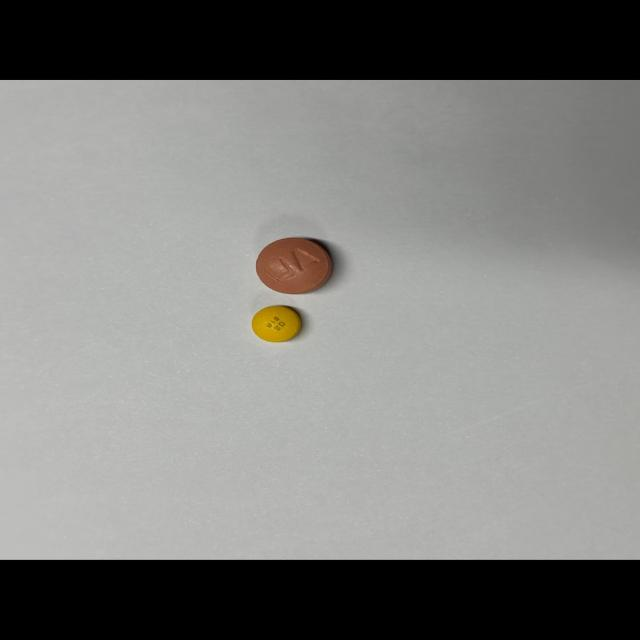Piller: (252, 306, 302, 342)
